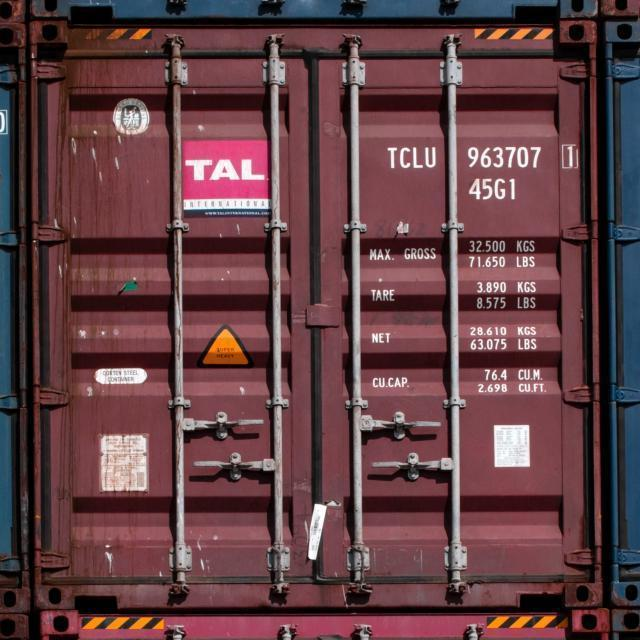ISO: (464, 172, 526, 204)
container_number: (384, 142, 576, 172)
